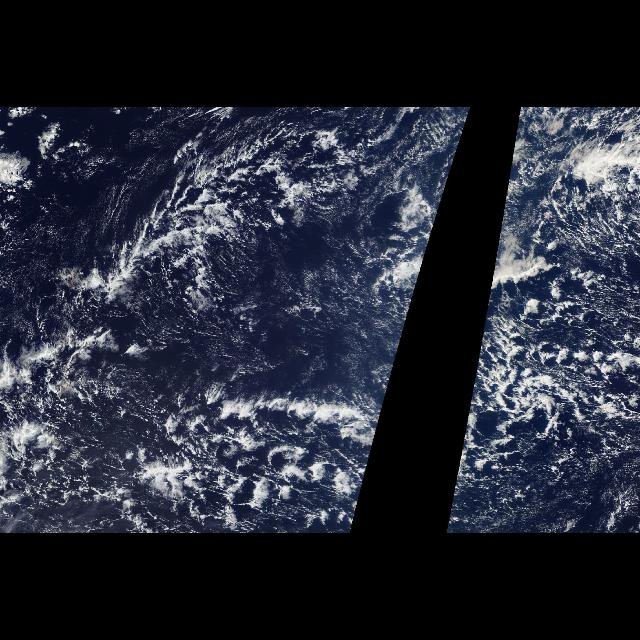Gravel: (6, 123, 370, 522), (450, 290, 640, 510)
